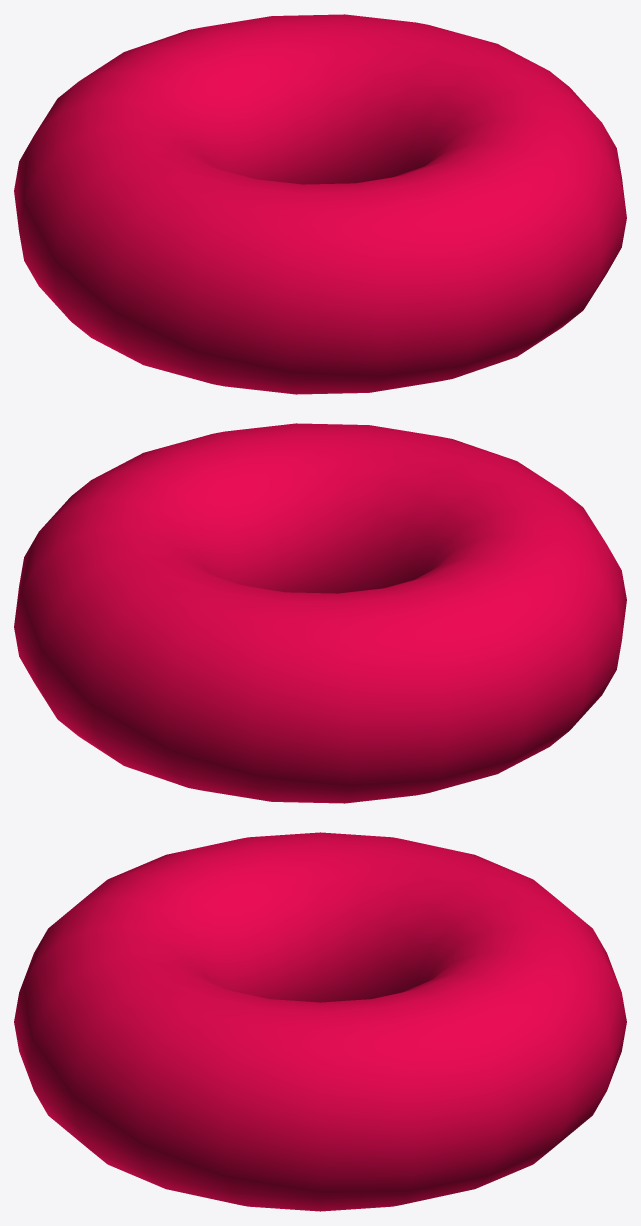
The model's file is REDBACTERIA.fbx.
3 renders of one model, top to bottom at view 1: azimuth 30°, elevation 25°; view 2: azimuth 150°, elevation 25°; view 3: azimuth 270°, elevation 25°, orthographic.
Parts seen in each view (by area): view 1: pTorus1; view 2: pTorus1; view 3: pTorus1.
Part boxes in pixels (box(x1,y1,x2,y2)): pTorus1: box(14, 14, 626, 394); pTorus1: box(14, 423, 626, 803); pTorus1: box(14, 832, 626, 1211).
Bounding box in the file's own units: 3.59 × 1.23 × 3.59.
